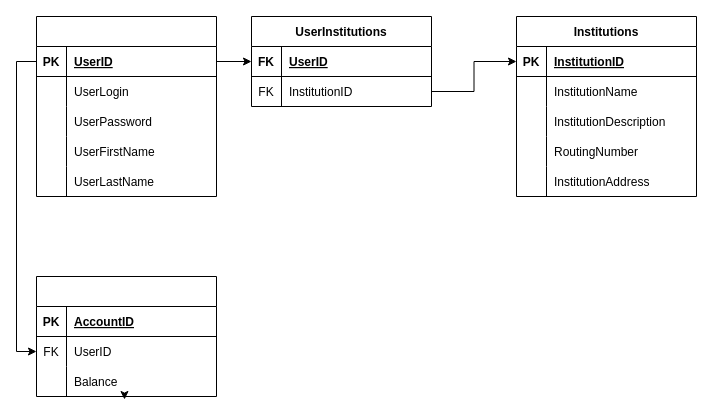
This 713x415 diagram has some shape labels left out. Here are the shapes that lost their labels. From the top down, the box of each, then its label:
(36, 16, 216, 196): Users
(36, 276, 216, 396): Accounts
